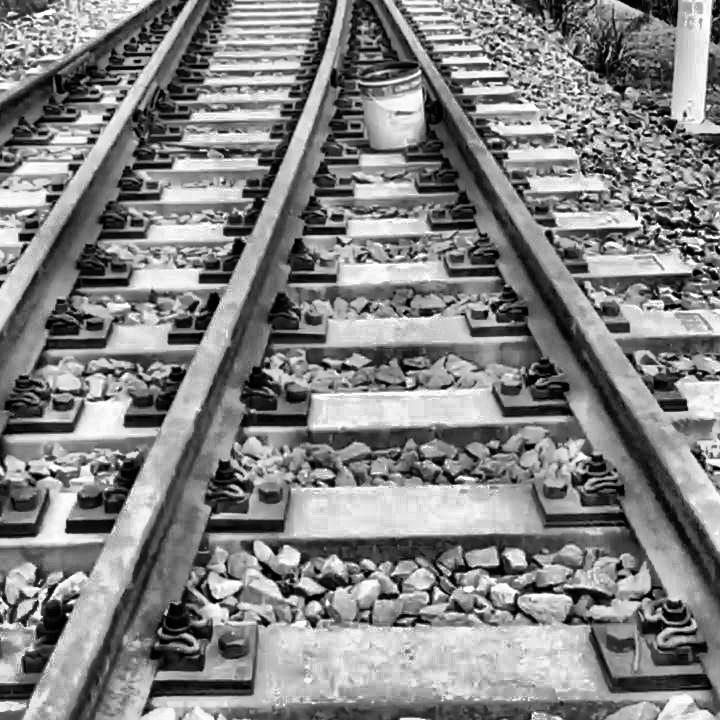Trash: (356, 45, 453, 149)
